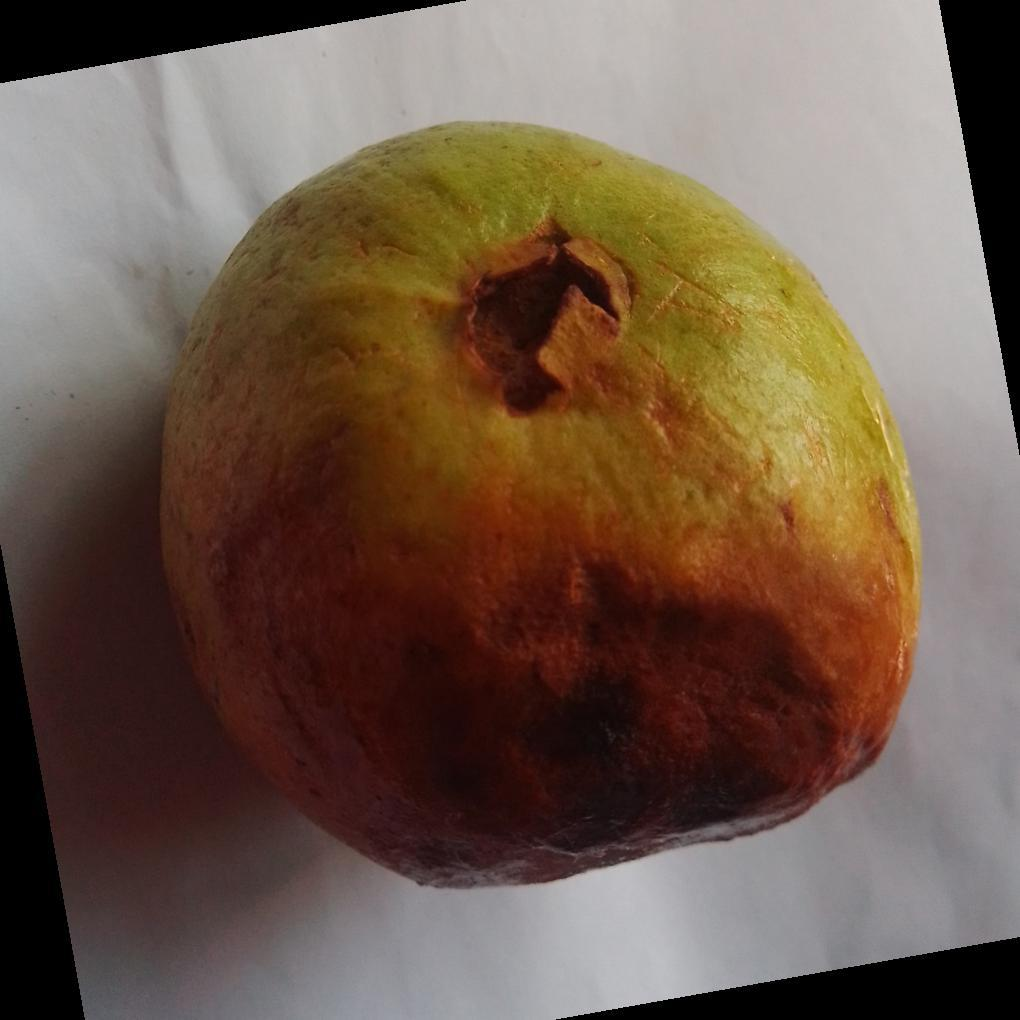FreshOrange: (157, 122, 922, 893)
